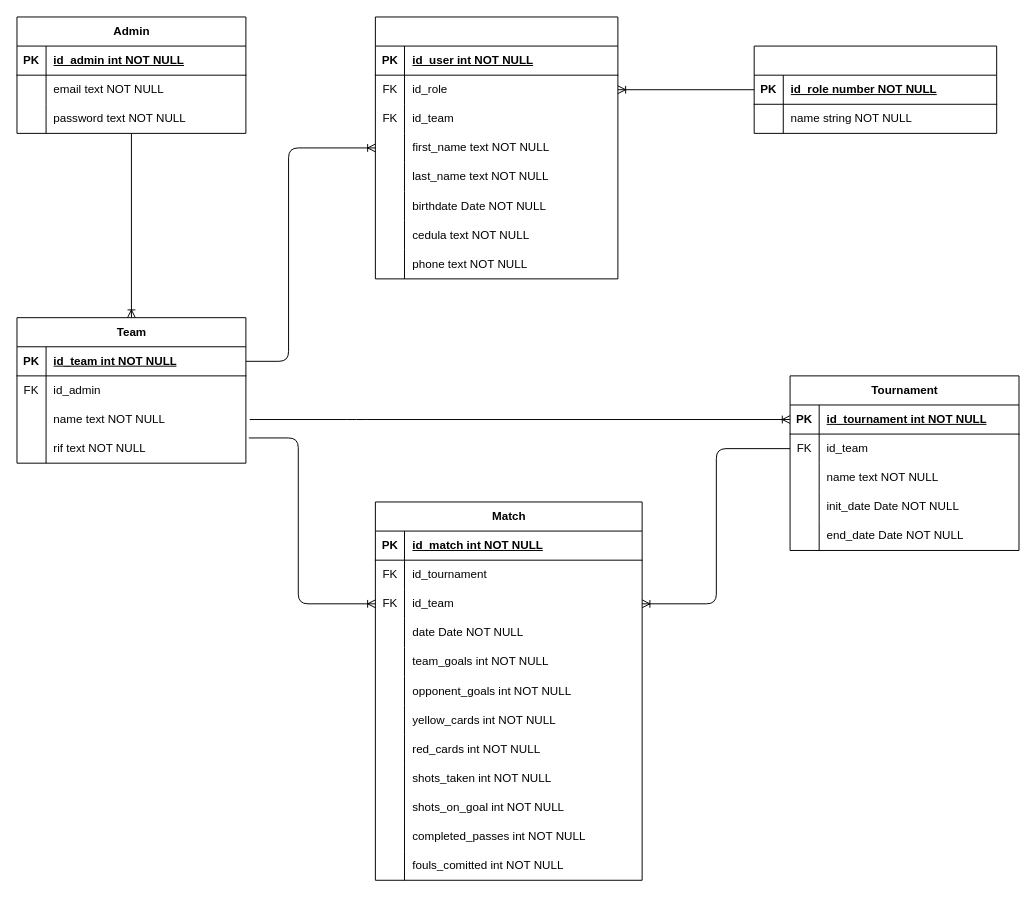
This 1036x897 diagram has some shape labels left out. Here are the shapes that lost their labels. From the top down, the box of each, then its label:
(753, 45, 997, 133): Roles
(374, 16, 618, 279): Users
